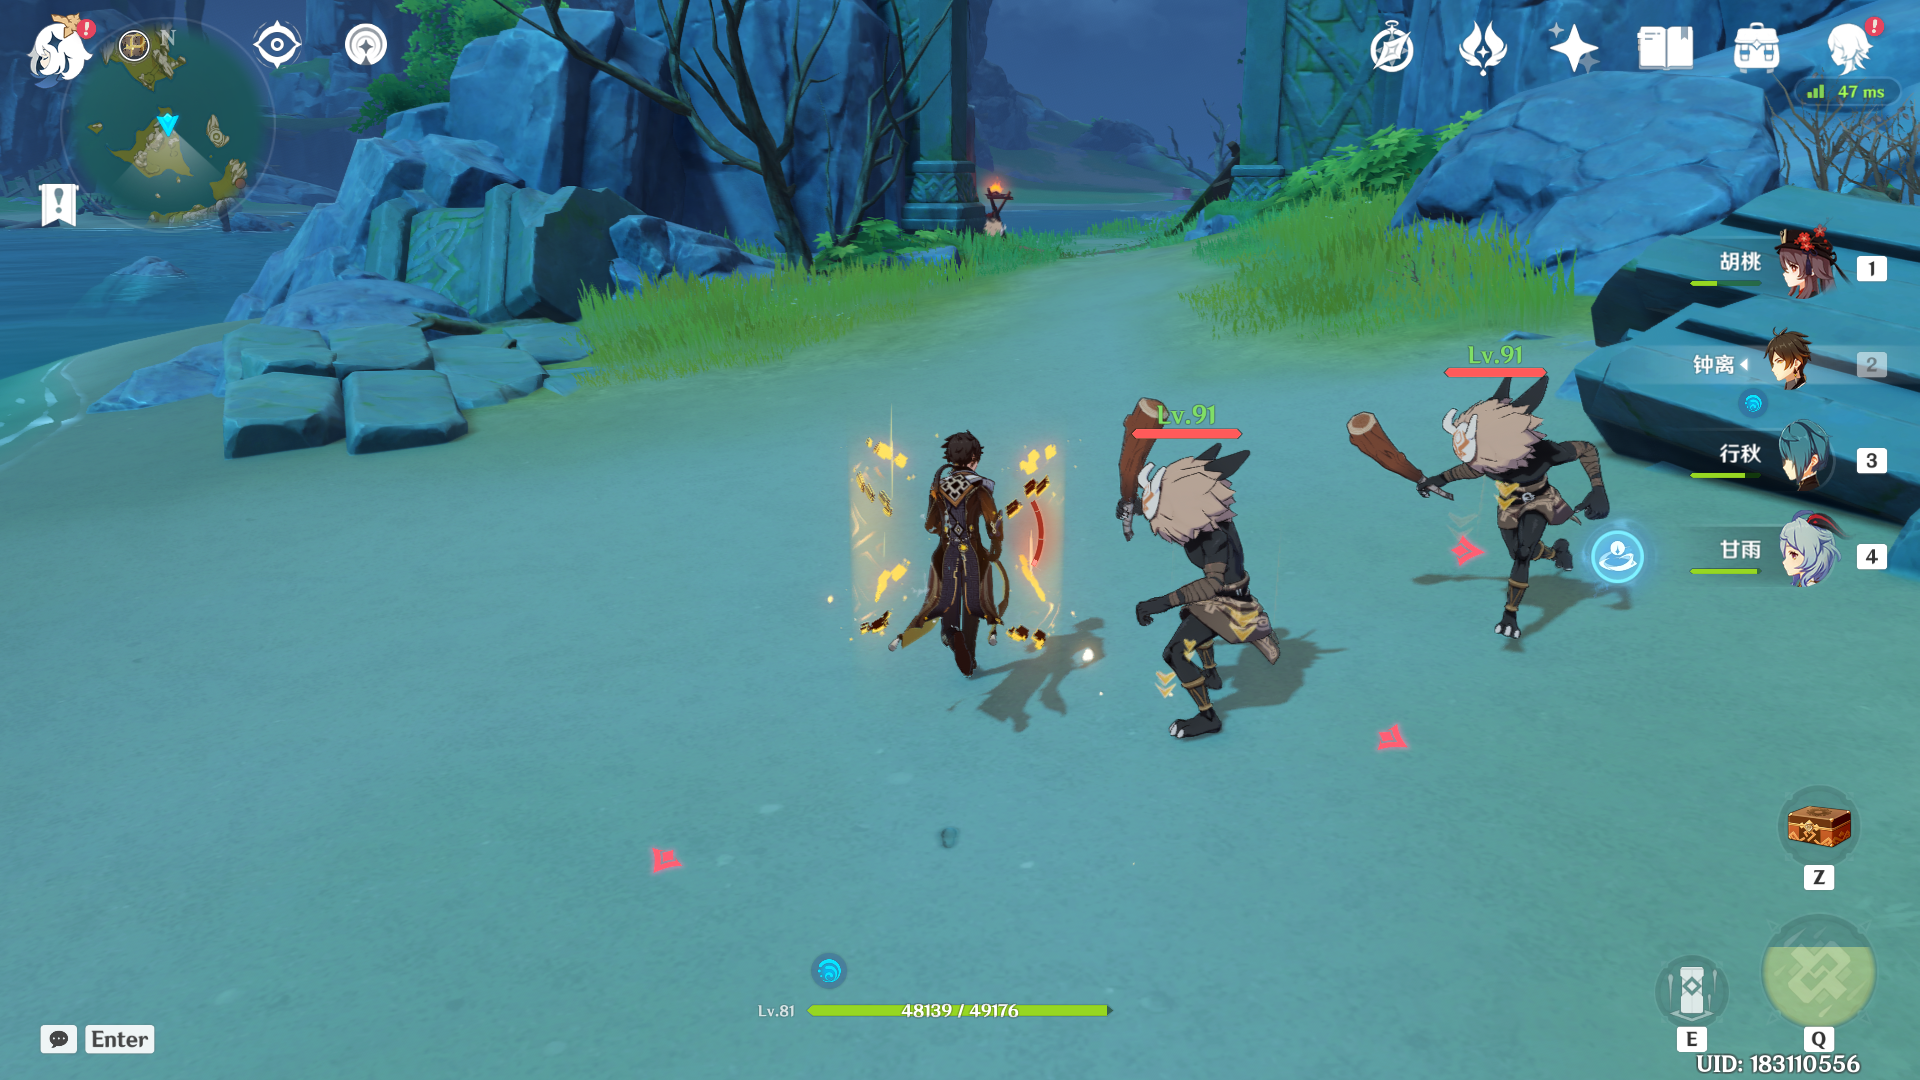character: (858, 360, 1109, 737)
hili: (1342, 328, 1680, 692), (1062, 400, 1320, 760)
